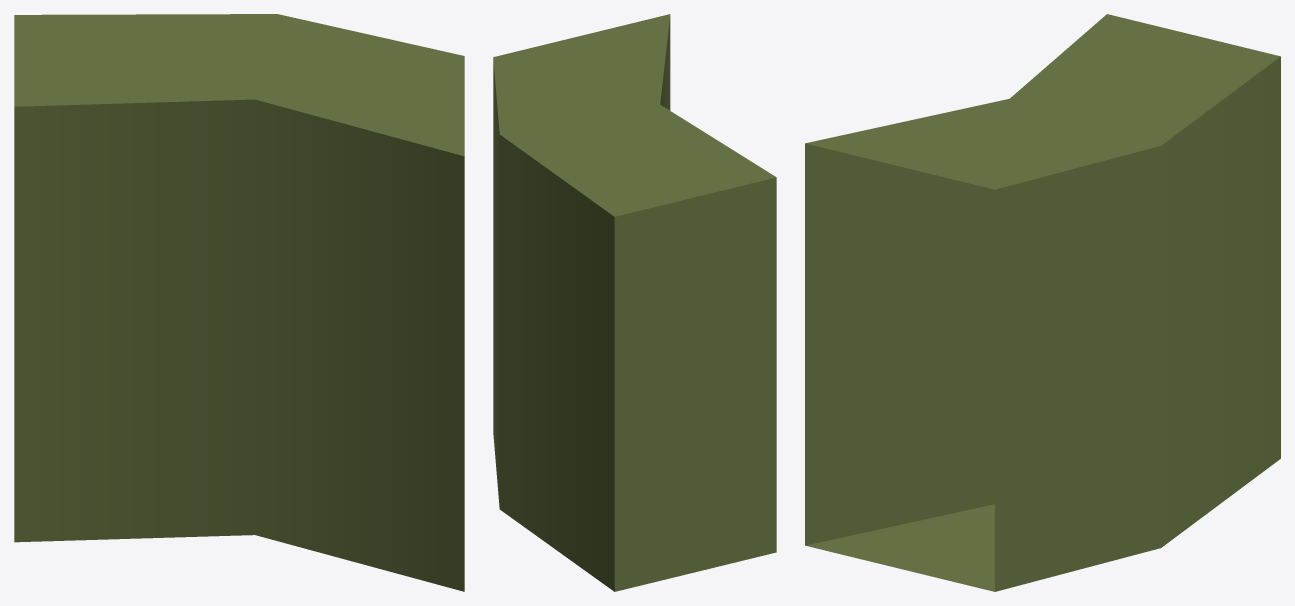
Rendered from ground_25.fbx.
The picture shows the model from 3 angles, left to right: view 1: azimuth 30°, elevation 25°; view 2: azimuth 150°, elevation 25°; view 3: azimuth 270°, elevation 25°; orthographic projection. The views are drawn at different scales.
Parts seen in each view (by area): view 1: ground_25; view 2: ground_25; view 3: ground_25.
Boxes of the visible parts, <box> form: ground_25: <box>14,14,464,591</box>; ground_25: <box>493,14,776,591</box>; ground_25: <box>805,14,1280,591</box>.
Bounding box in the file's own units: 5.07 × 5.41 × 5.8.
